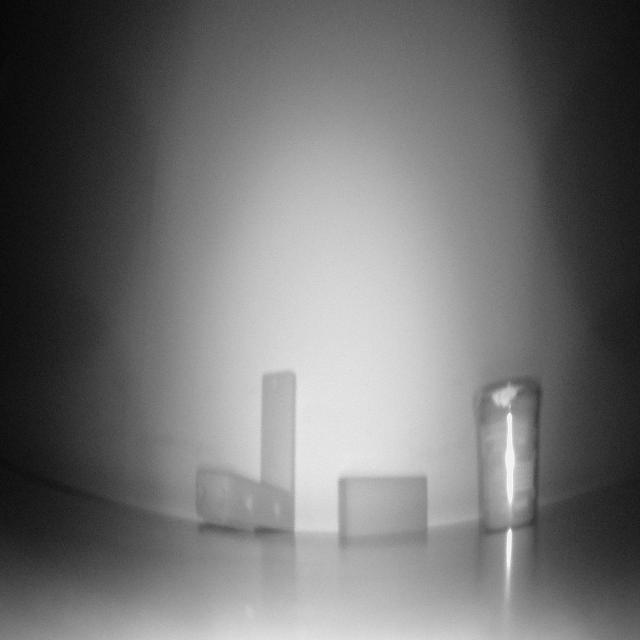targets: (194, 362, 297, 541), (476, 375, 541, 538), (338, 473, 432, 545)
